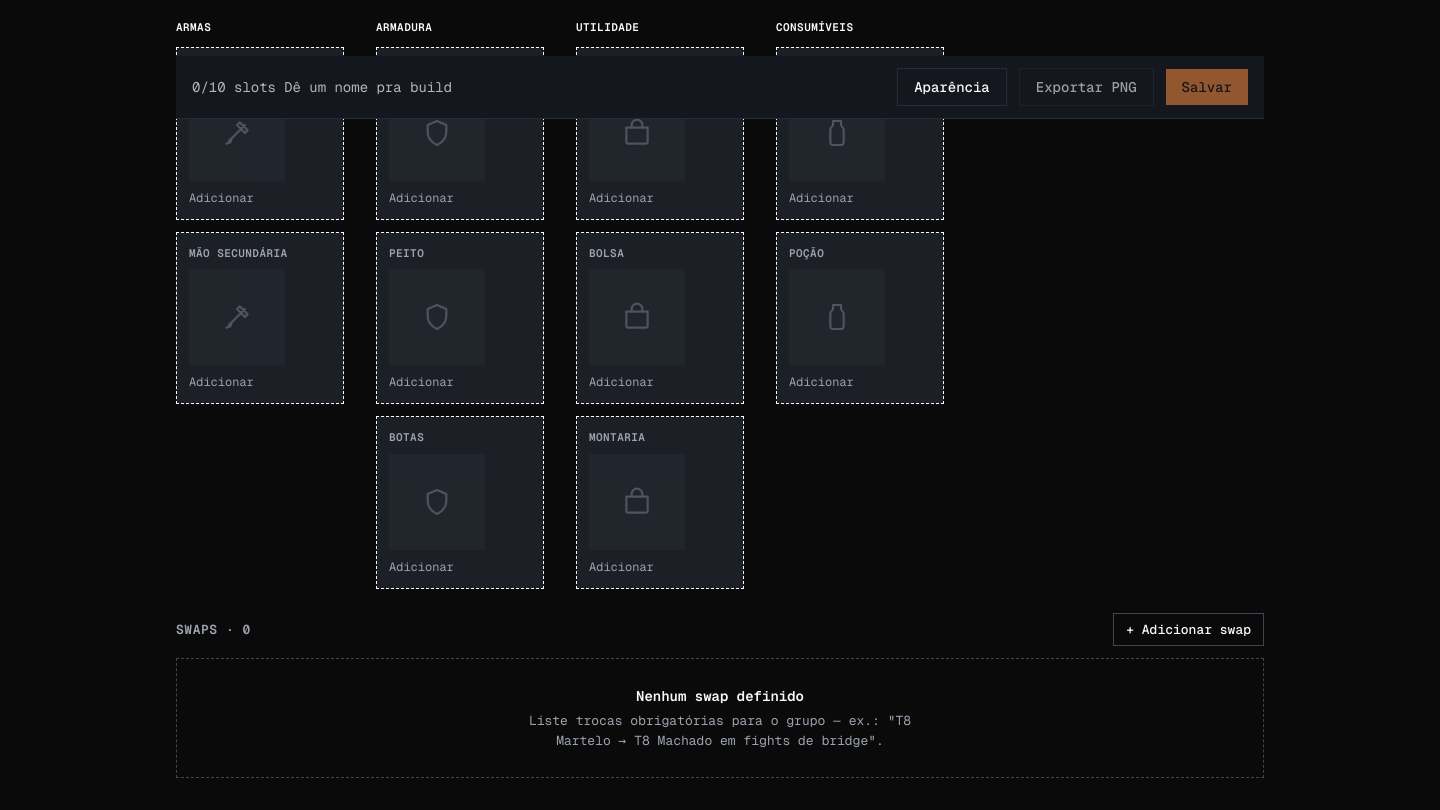
Test: /build/new — Swaps section (ACM-012, RF-3) › removing a swap on the real route removes it from the store
(page scrolled)
Click the button "+ Adicionar swap" at point(1189, 629), box left=1113, top=612, right=1264, bottom=646
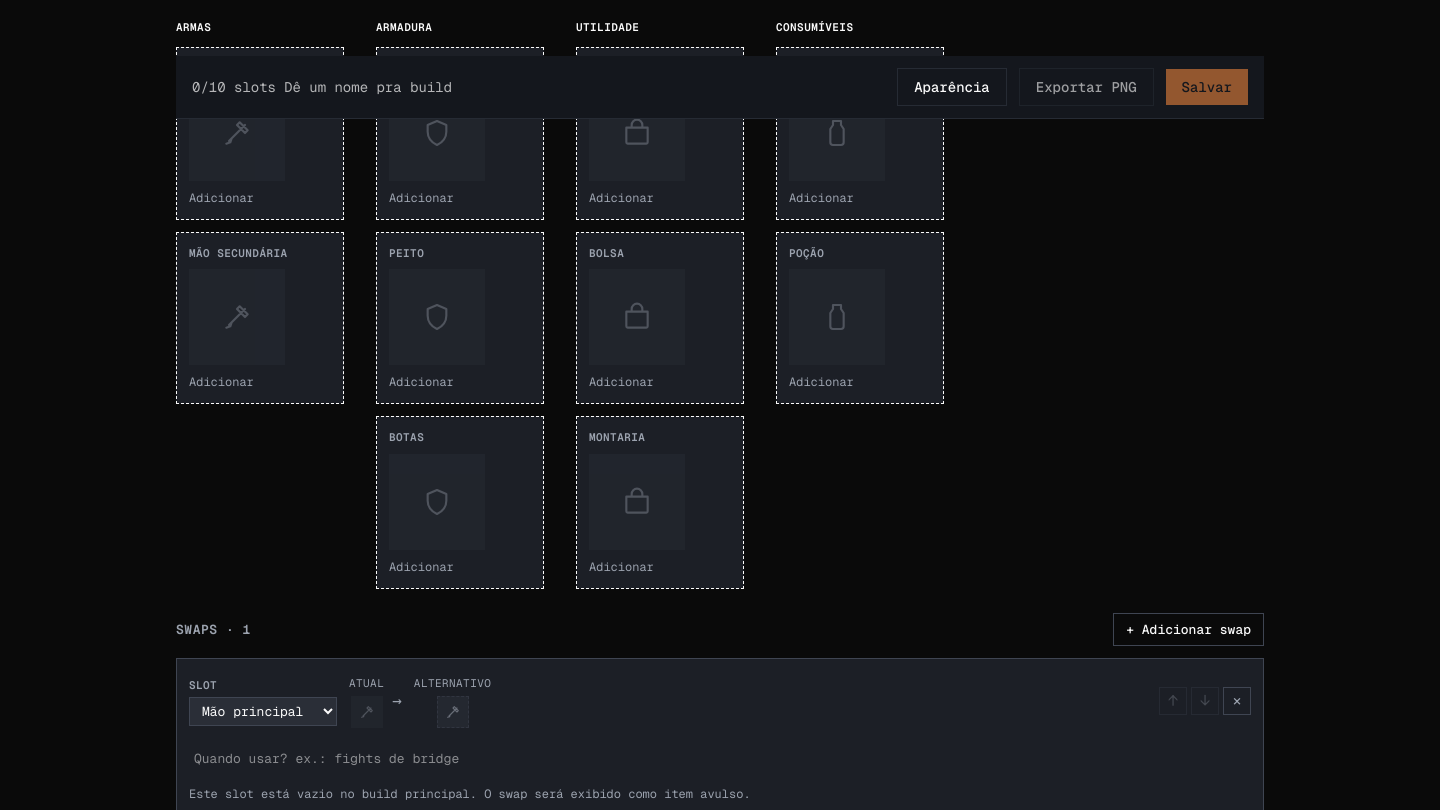
Click the button named "Remover swap 1" at point(1237, 701), box left=1223, top=687, right=1251, bottom=715
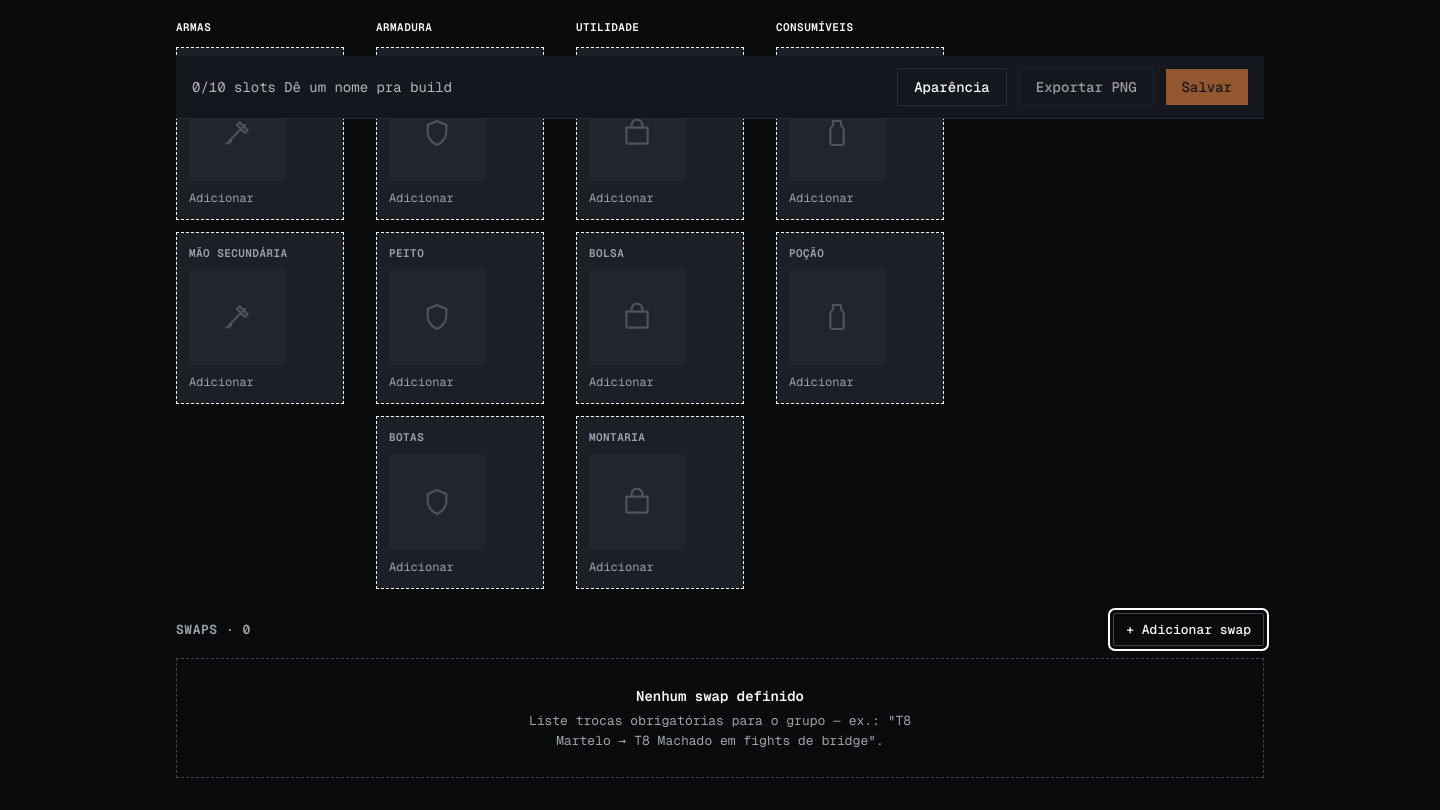
Check: the text "Nenhum swap definido" is shown, box left=636, top=686, right=804, bottom=707
